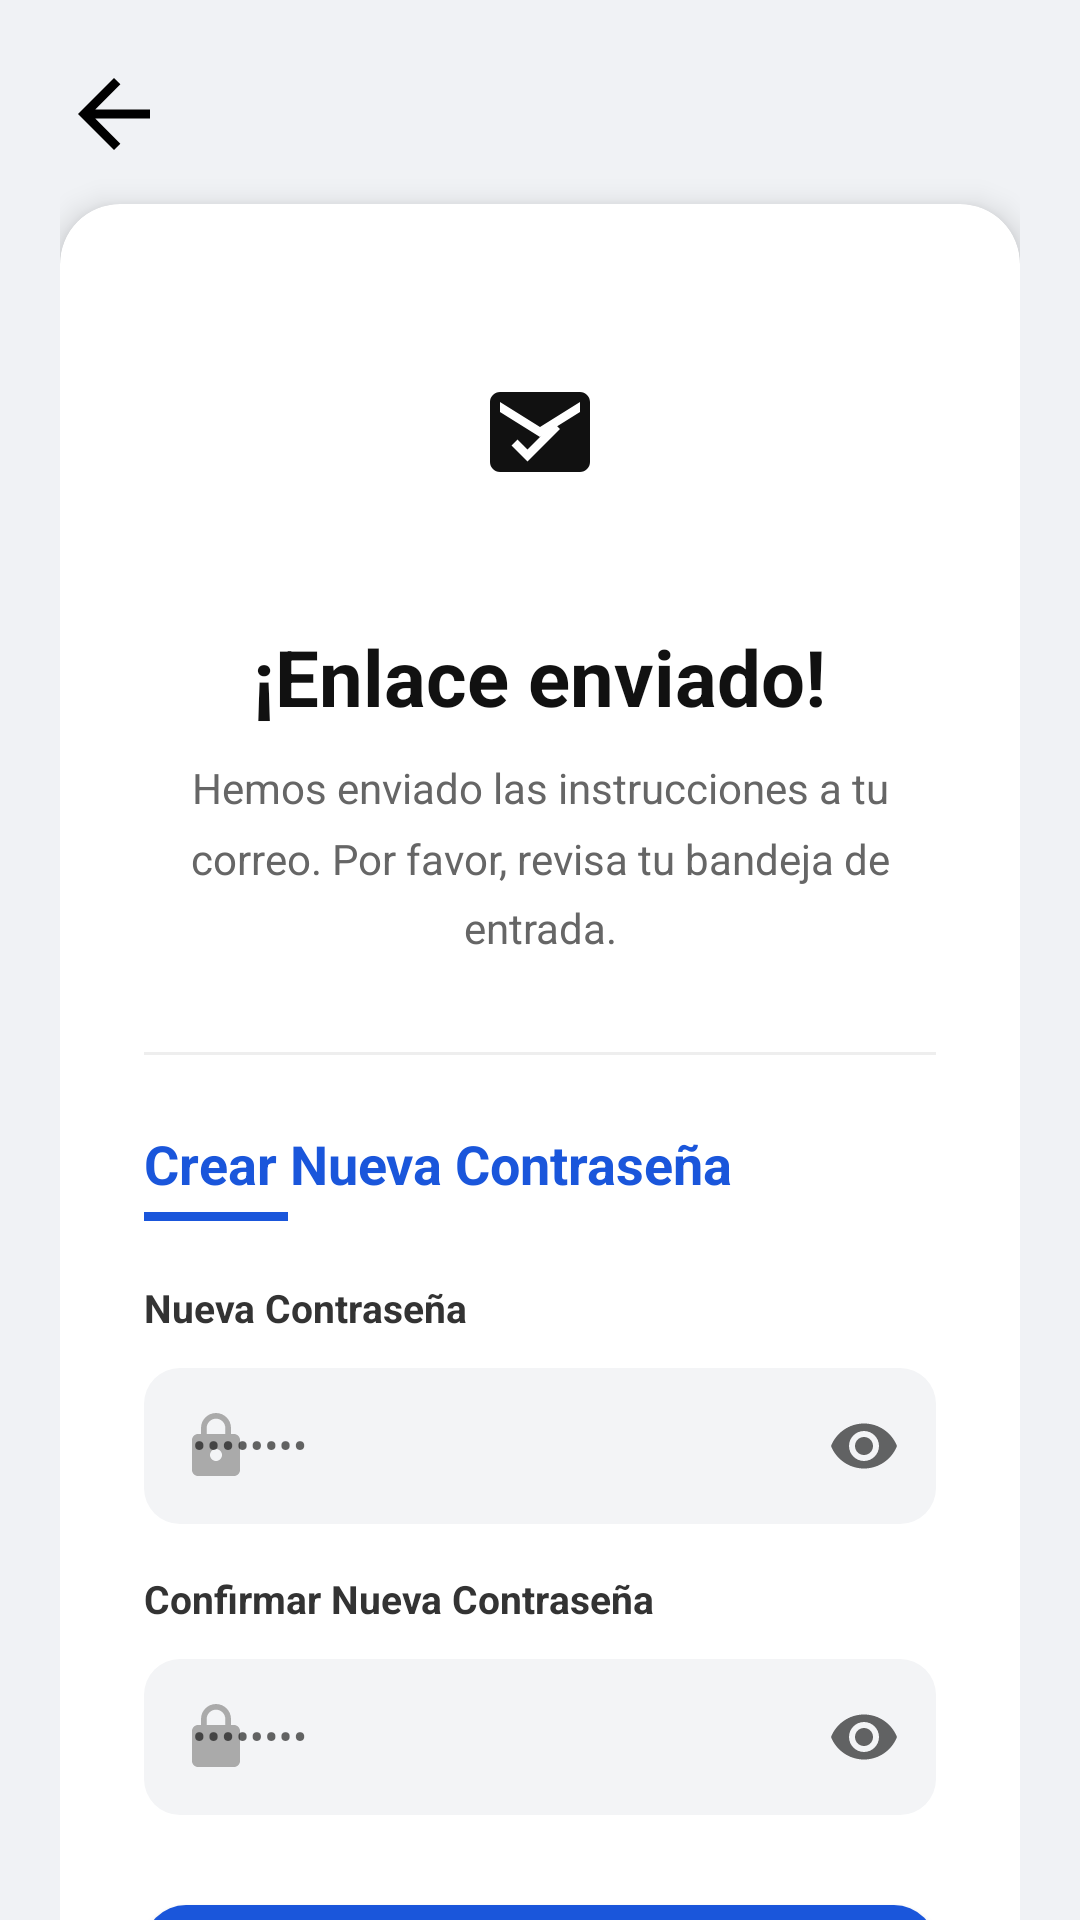

Icon click points for this 1080×1920 phone screenshot, format point (x, y):
email check: point (540, 432)
Volver: point (114, 114)
